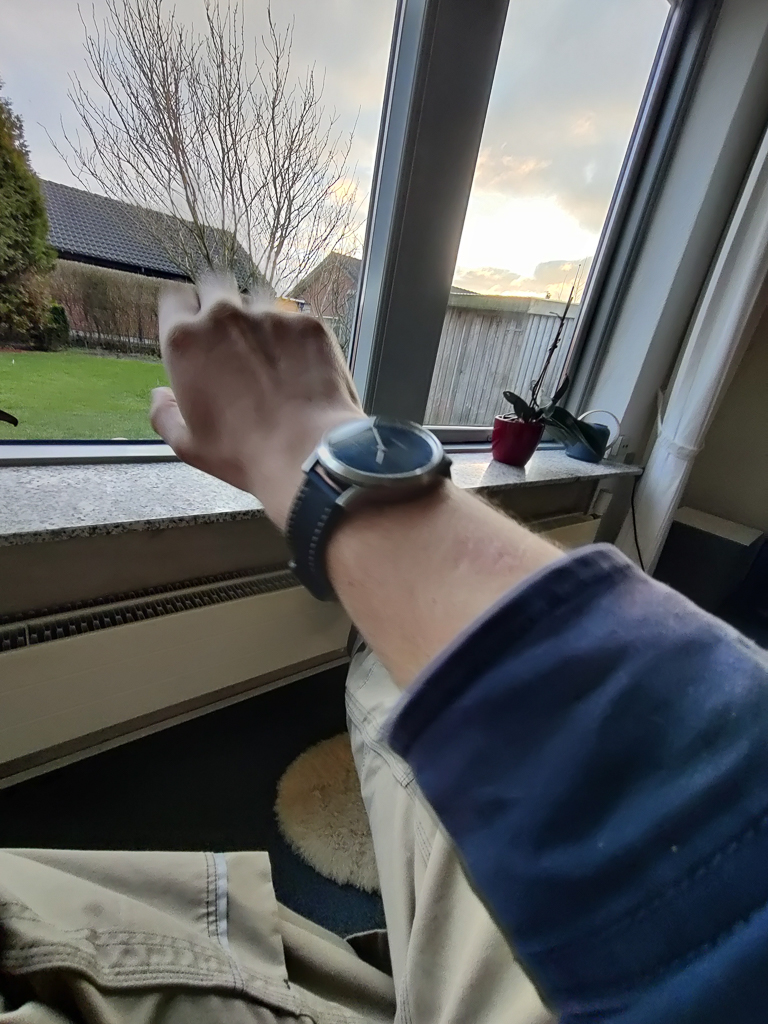Humanoid: (0, 256, 768, 1024)
